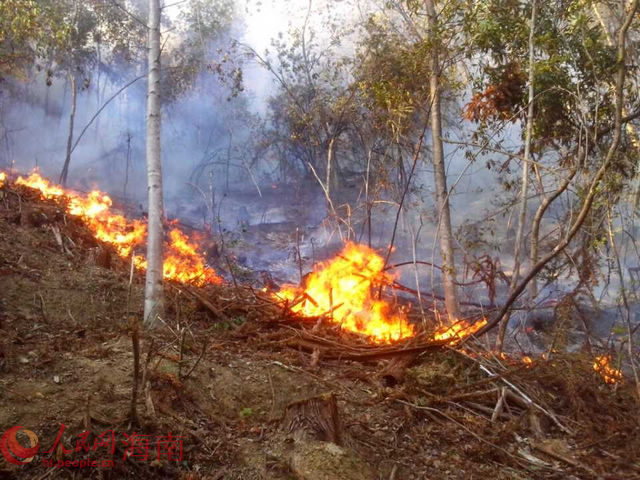fire: (3, 163, 232, 292), (272, 237, 498, 346)
